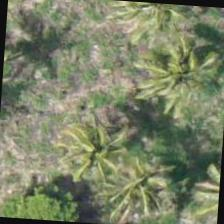Kelapa_Sawit: (48, 102, 144, 198), (133, 26, 223, 124), (96, 134, 194, 223)
